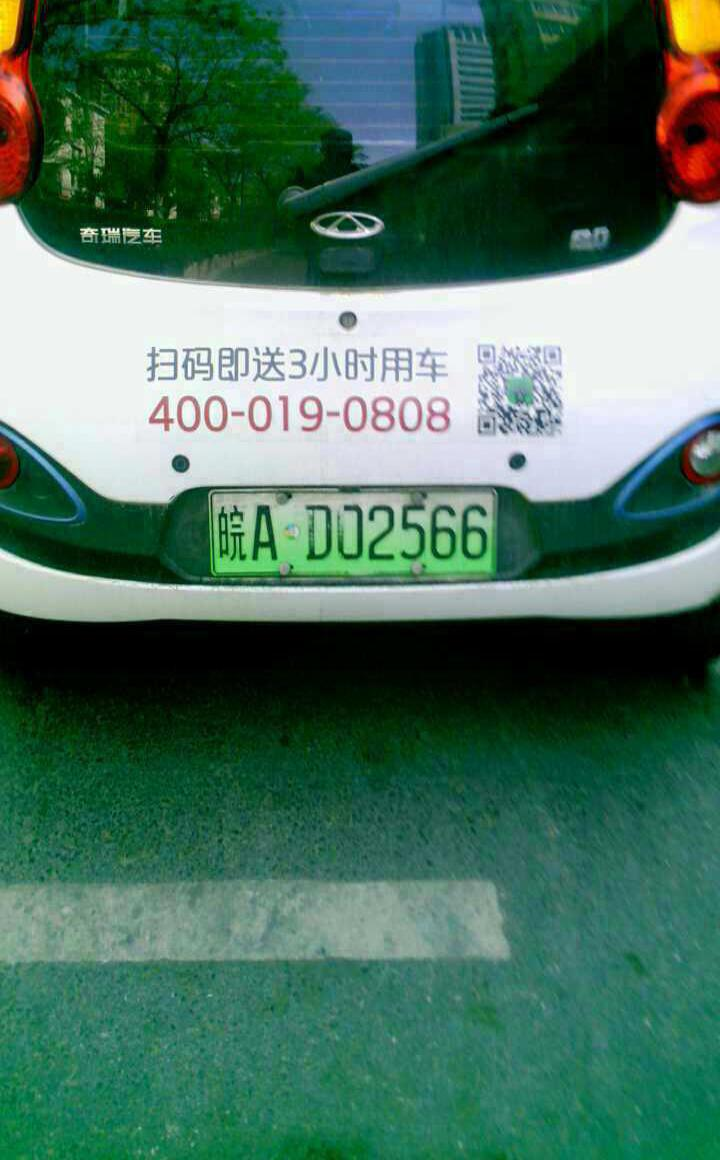car: (180, 478, 496, 590)
